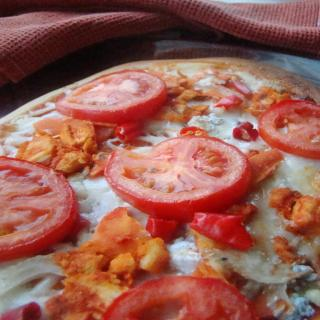tomato: (104, 136, 251, 223), (0, 156, 78, 260), (101, 274, 262, 320), (55, 70, 167, 126), (259, 98, 319, 152)
